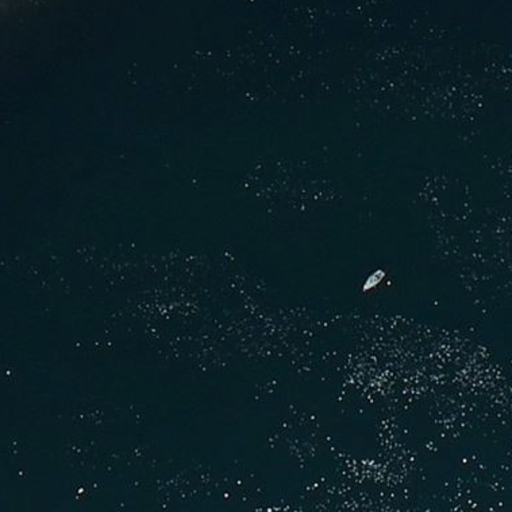ship: (358, 266, 388, 296)
